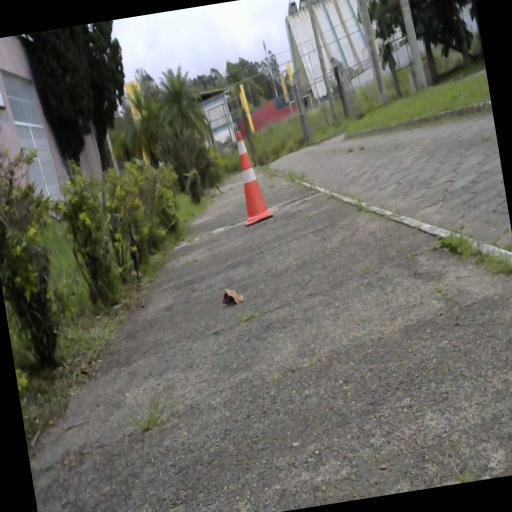cone: (230, 126, 275, 228)
